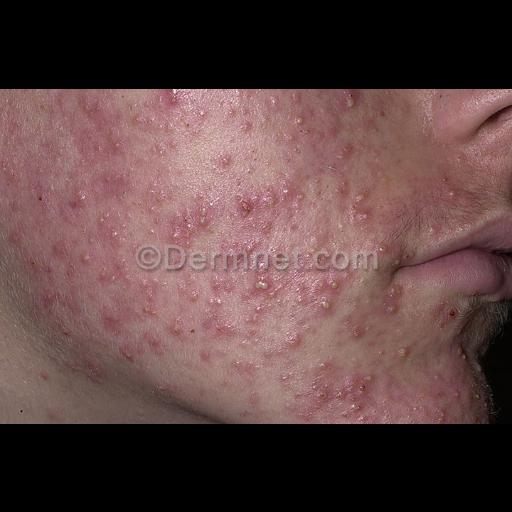Skin_Lesion: (236, 171, 290, 219), (166, 197, 214, 247), (312, 370, 370, 406), (309, 269, 351, 317), (60, 90, 106, 128), (34, 287, 82, 321), (205, 308, 247, 344), (106, 168, 154, 196), (339, 190, 375, 226), (134, 278, 164, 318), (248, 264, 278, 300), (148, 124, 174, 162), (94, 212, 126, 240), (379, 284, 405, 318), (100, 303, 130, 331), (432, 298, 458, 330), (149, 88, 183, 112), (64, 187, 92, 215), (308, 354, 336, 378), (230, 350, 254, 376), (338, 88, 364, 110), (212, 270, 232, 298), (30, 256, 54, 278), (174, 276, 198, 298), (447, 384, 471, 406), (346, 315, 366, 341), (98, 266, 126, 284), (94, 141, 122, 159), (285, 325, 305, 349), (374, 234, 394, 256), (168, 317, 190, 337), (216, 148, 234, 170), (425, 88, 447, 106), (235, 116, 257, 134), (396, 338, 412, 362), (121, 342, 137, 366), (7, 224, 25, 244), (51, 236, 69, 256), (277, 369, 297, 387), (198, 344, 214, 366), (225, 88, 253, 100), (264, 92, 282, 110), (339, 142, 357, 160), (318, 297, 336, 315), (246, 388, 262, 408), (327, 118, 343, 136), (45, 404, 59, 422), (337, 179, 351, 195), (78, 252, 94, 266), (197, 104, 213, 118), (292, 91, 304, 103), (434, 406, 448, 416)
